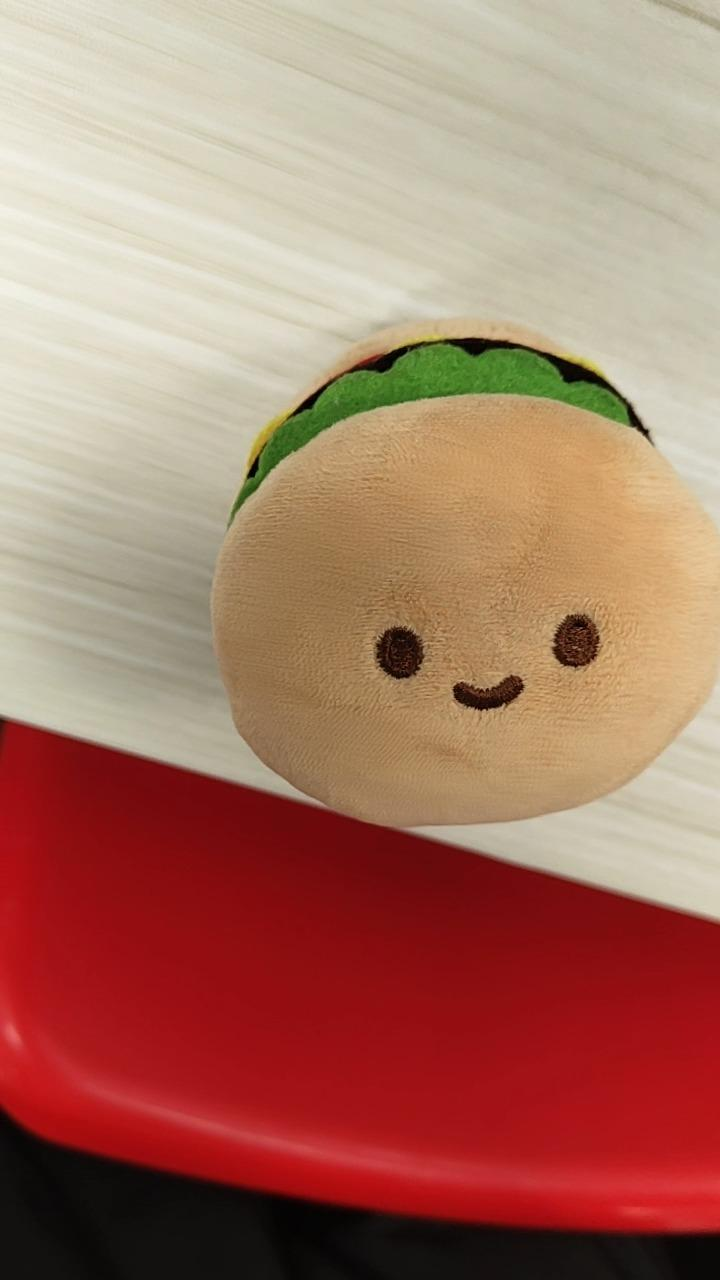hamburger: (208, 315, 718, 829)
